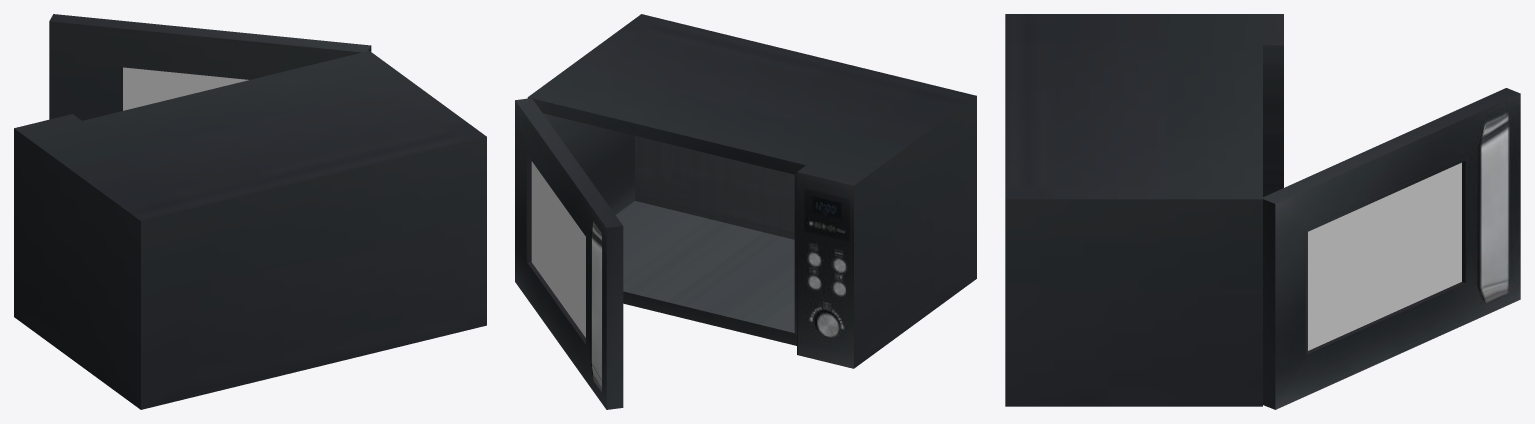
File: microwave.glb
3 views of the same model, side by side, from view 1: azimuth 30°, elevation 25°; view 2: azimuth 150°, elevation 25°; view 3: azimuth 270°, elevation 25° (orthographic). The views are drawn at different scales.
Visible parts, largest first — view 1: Microwave_02, Microwave_door_02; view 2: Microwave_02, Microwave_door_02; view 3: Microwave_02, Microwave_door_02.
Boxes of the visible parts, <box> form: Microwave_02: <box>14,51,486,409</box>; Microwave_door_02: <box>49,14,371,120</box>; Microwave_02: <box>527,14,976,368</box>; Microwave_door_02: <box>515,98,623,409</box>; Microwave_02: <box>1005,14,1283,406</box>; Microwave_door_02: <box>1263,88,1520,409</box>.
Bounding box in the file's own units: 0.7033 × 0.3591 × 0.8094.
Materials: 2 (1 with a texture image).
